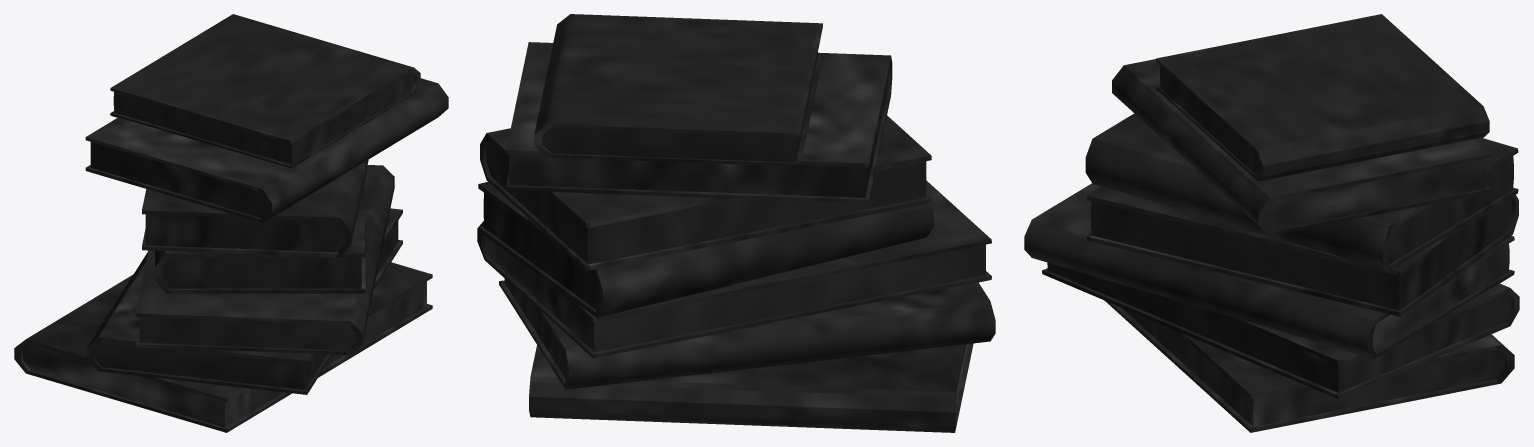
File: SM_Books_14.fbx
The picture shows the model from 3 angles, left to right: view 1: azimuth 30°, elevation 25°; view 2: azimuth 150°, elevation 25°; view 3: azimuth 270°, elevation 25°; orthographic projection. The views are drawn at different scales.
Visible parts, largest first — view 1: SM_Books_14; view 2: SM_Books_14; view 3: SM_Books_14.
Boxes of the visible parts, left/top/right/bottom form: SM_Books_14: left=14, top=14, right=448, bottom=432; SM_Books_14: left=477, top=14, right=995, bottom=432; SM_Books_14: left=1024, top=14, right=1519, bottom=432.
Bounding box in the file's own units: 33.84 × 32.44 × 19.77.
1 material, 1 textured.
